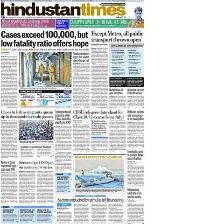news_paper: (0, 0, 145, 224)
